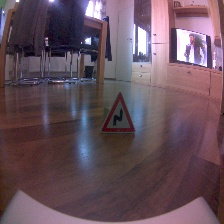vorsicht: (94, 90, 139, 136)
